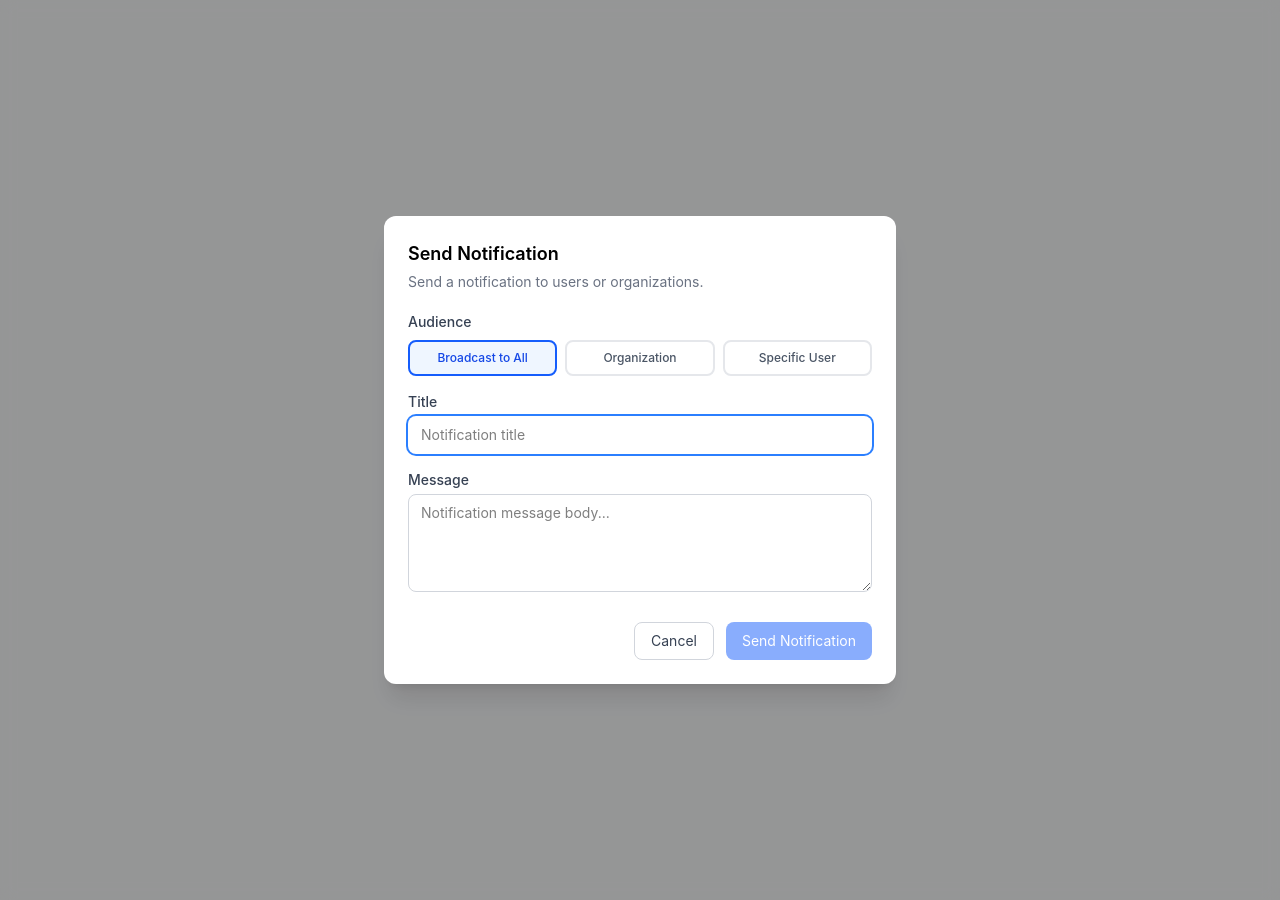
SendNotificationDialog › shows tenant dropdown when tenant scope is selected
Click the button "Organization". click: (640, 358)
box: [565,340,715,376]
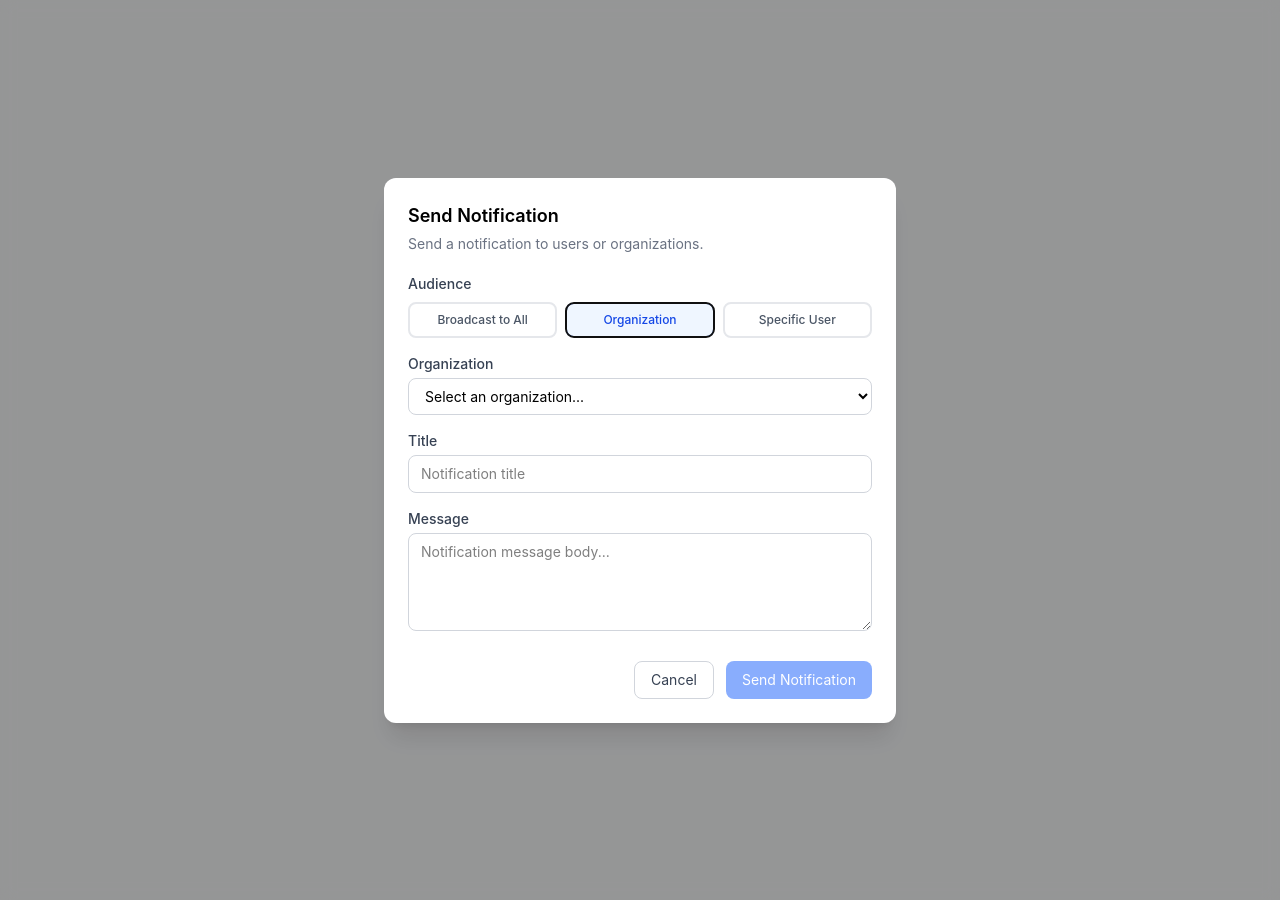
Result: the dropdown labelled "Organization" is shown at [408,378,872,414]
